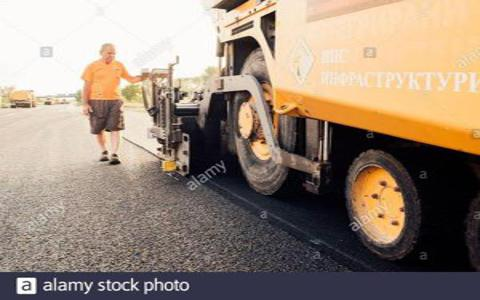Proper road: (60, 169, 187, 265)
